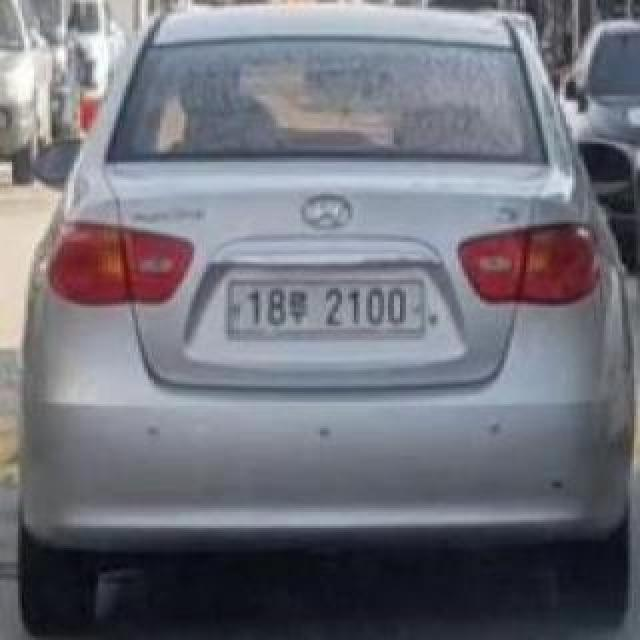car: (18, 1, 640, 640)
illegal_plate: (227, 270, 432, 345)
